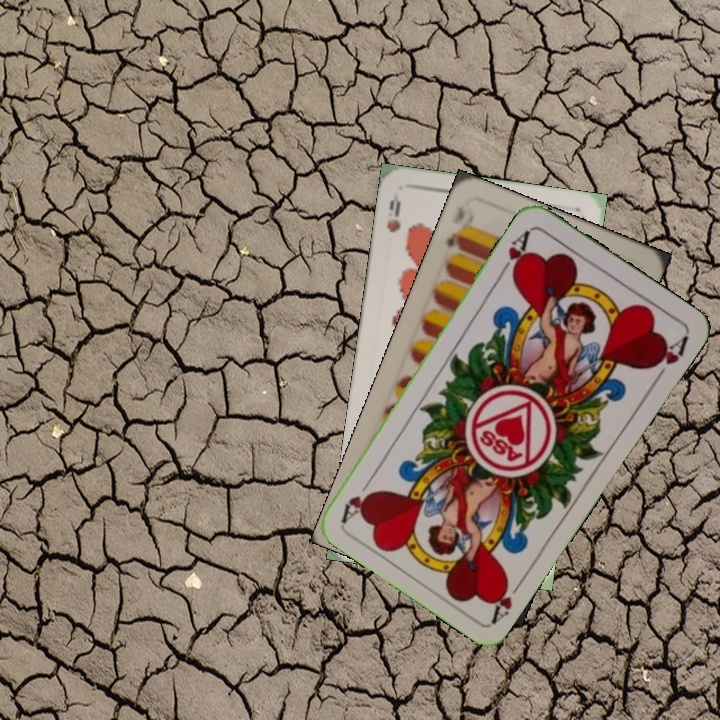E10: (441, 219, 468, 253)
H9: (382, 196, 403, 235)
HA: (486, 572, 528, 625), (495, 225, 533, 280)
